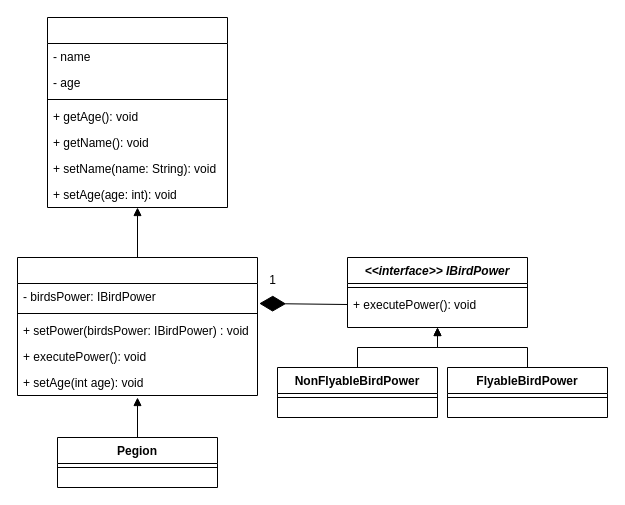
Image size: 625x505. Some labels were removed from this diagram. Each missing label, with the box of its shape:
AbstractAnimal: (46, 16, 228, 208)
AbstractBird: (16, 256, 258, 396)
